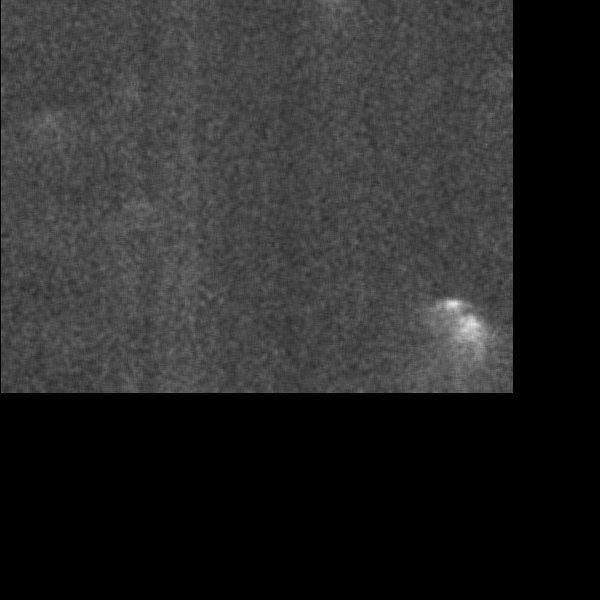spark: (310, 62, 357, 135)
